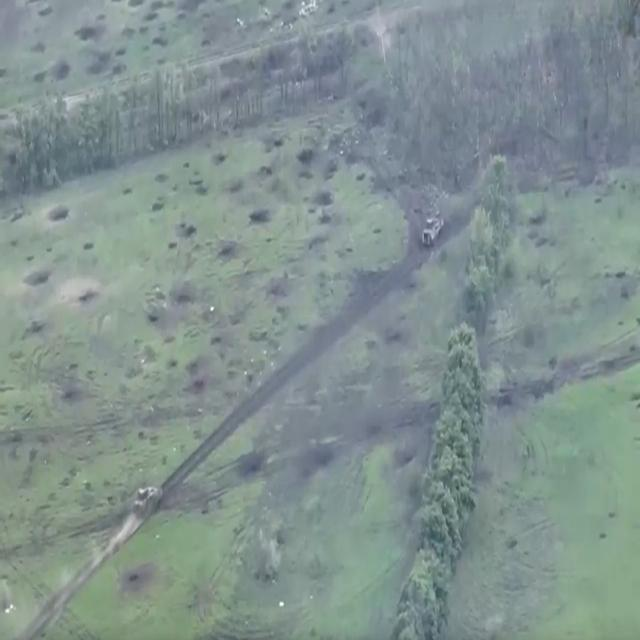APC: (130, 484, 164, 523), (420, 214, 446, 253)
